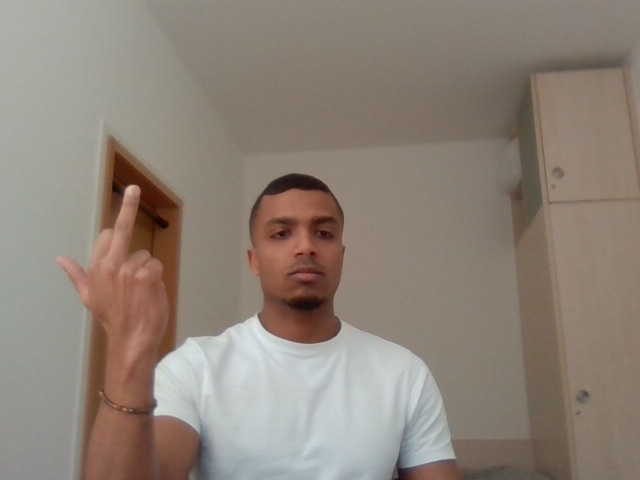fuckyou: (53, 167, 182, 374)
